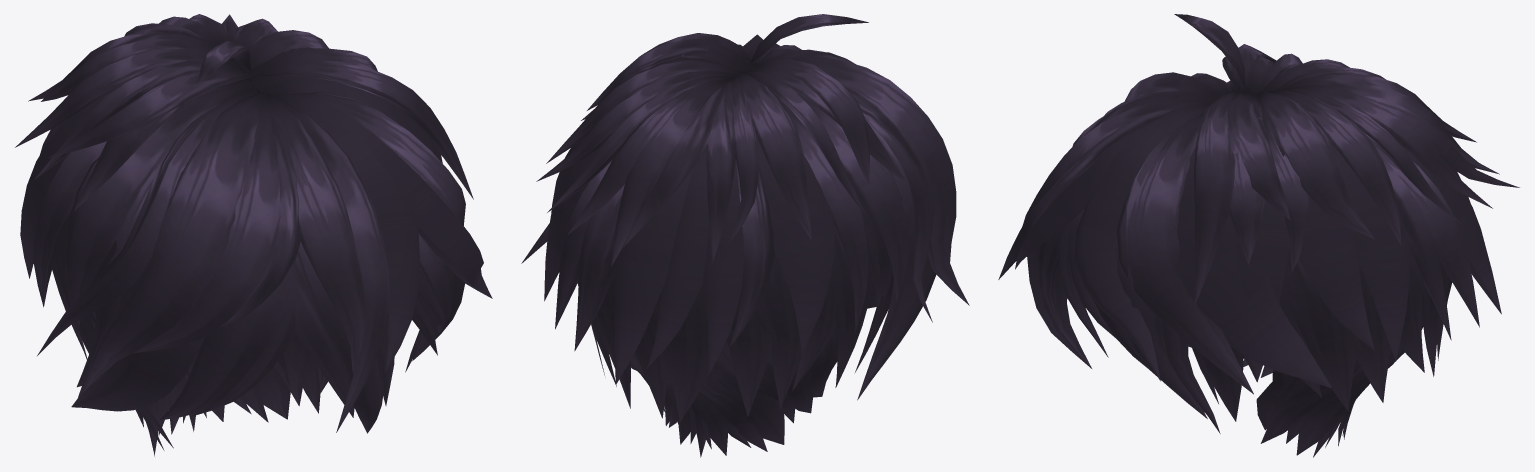
File: hair.glb
3 renders of one model, left to right at view 1: azimuth 30°, elevation 25°; view 2: azimuth 150°, elevation 25°; view 3: azimuth 270°, elevation 25°, orthographic. The views are drawn at different scales.
Visible parts, largest first — view 1: strand004, strand003, strand002, strand050, strand000, strand009, strand005, strand001, strand016, strand017, strand026, strand024 (+29 smaller); view 2: strand048, strand004, strand044, strand045, strand036, strand050, strand046, strand049, strand009, strand032, strand043, strand059 (+33 smaller); view 3: strand006, strand007, strand005, strand041, strand028, strand026, strand040, strand054, strand029, strand025, strand043, strand039 (+35 smaller).
Boxes of the visible parts, left/top/right/bottom form: strand004: left=78, top=92, right=267, bottom=397; strand003: left=133, top=97, right=280, bottom=353; strand002: left=267, top=95, right=366, bottom=373; strand050: left=65, top=79, right=253, bottom=333; strand000: left=268, top=95, right=389, bottom=432; strand009: left=37, top=87, right=257, bottom=355; strand005: left=266, top=93, right=492, bottom=298; strand001: left=316, top=121, right=419, bottom=371; strand016: left=159, top=178, right=287, bottom=420; strand017: left=71, top=336, right=205, bottom=411; strand026: left=258, top=59, right=473, bottom=199; strand024: left=48, top=69, right=256, bottom=157; strand048: left=757, top=138, right=834, bottom=354; strand004: left=792, top=56, right=969, bottom=305; strand044: left=614, top=150, right=693, bottom=384; strand045: left=647, top=143, right=709, bottom=368; strand036: left=736, top=73, right=811, bottom=240; strand050: left=748, top=68, right=908, bottom=302; strand046: left=703, top=160, right=743, bottom=375; strand049: left=781, top=101, right=868, bottom=331; strand009: left=842, top=84, right=934, bottom=322; strand032: left=611, top=79, right=728, bottom=266; strand043: left=574, top=184, right=624, bottom=351; strand059: left=650, top=284, right=708, bottom=422; strand006: left=1117, top=112, right=1253, bottom=394; strand007: left=1177, top=148, right=1331, bottom=387; strand005: left=1074, top=104, right=1210, bottom=381; strand041: left=1331, top=143, right=1409, bottom=361; strand028: left=1257, top=91, right=1374, bottom=239; strand026: left=1194, top=92, right=1237, bottom=306; strand040: left=1298, top=196, right=1374, bottom=350; strand054: left=1282, top=247, right=1356, bottom=411; strand029: left=1269, top=90, right=1401, bottom=245; strand025: left=1227, top=93, right=1290, bottom=220; strand043: left=1372, top=142, right=1479, bottom=327; strand039: left=1235, top=93, right=1290, bottom=382.
Bounding box in the file's own units: 0.3435 × 0.351 × 0.4172.
1 material, 1 textured.
